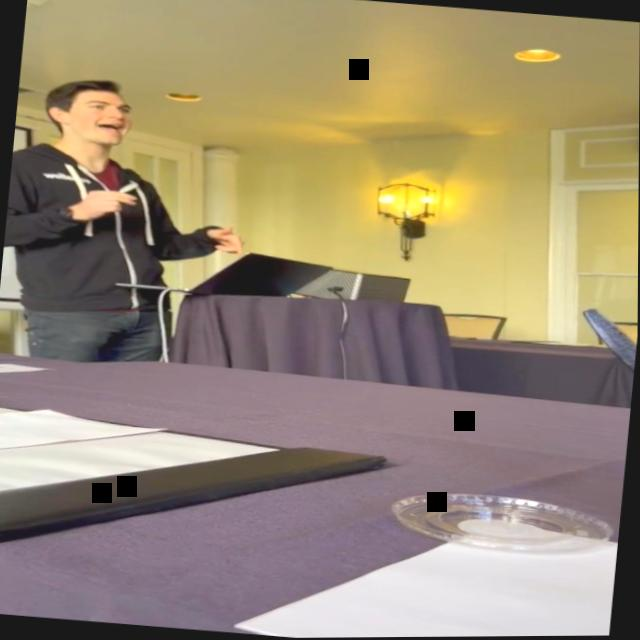NO-Mask: (43, 81, 136, 150)
